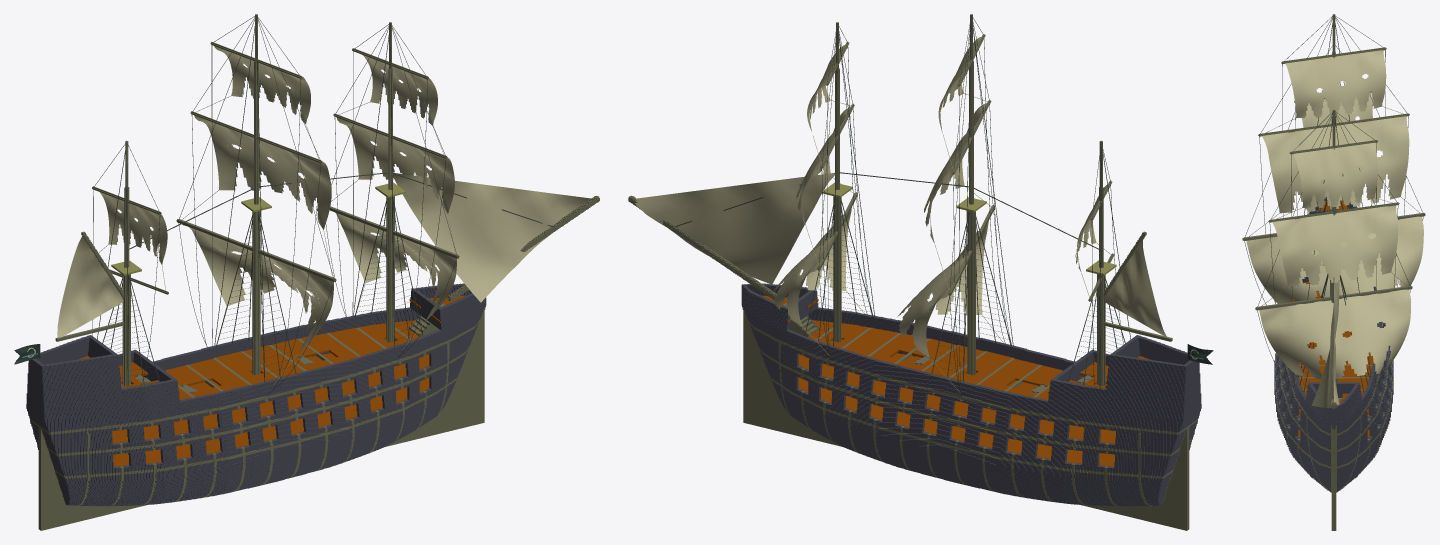
The model's file is rig_actual.obj.
3 views of the same model, side by side, from view 1: azimuth 30°, elevation 25°; view 2: azimuth 150°, elevation 25°; view 3: azimuth 270°, elevation 25° (orthographic). The views are drawn at different scales.
Parts seen in each view (by area): view 1: object 218, sail_8 # jib, sail_4 # main-topsail, sail_3 # main-course, sail_0 # fore-course, sail_1 # fore-topsail, sail_7 # mizzen-lateen, sail_5 # main-topgallant, sail_2 # fore-topgallant, sail_6 # mizzen-topsail, model_4 # main/yard-main-course; view 2: object 218, sail_8 # jib, sail_3 # main-course, sail_0 # fore-course, sail_7 # mizzen-lateen, sail_4 # main-topsail, sail_1 # fore-topsail; view 3: object 218, sail_0 # fore-course, sail_1 # fore-topsail, sail_4 # main-topsail, sail_3 # main-course, sail_5 # main-topgallant, sail_2 # fore-topgallant, sail_8 # jib, sail_6 # mizzen-topsail, model_7 # fore/yard-fore-course, model_5 # main/yard-main-topsail, model_8 # fore/yard-fore-topsail (+3 smaller).
Boxes of the visible parts, bbox=[...] form: object 218: bbox=[26, 14, 599, 530]; sail_8 # jib: bbox=[393, 173, 591, 302]; sail_4 # main-topsail: bbox=[194, 115, 331, 229]; sail_3 # main-course: bbox=[183, 225, 333, 352]; sail_0 # fore-course: bbox=[335, 212, 456, 321]; sail_1 # fore-topsail: bbox=[337, 117, 454, 213]; sail_7 # mizzen-lateen: bbox=[57, 236, 122, 337]; sail_5 # main-topgallant: bbox=[214, 46, 310, 123]; sail_2 # fore-topgallant: bbox=[362, 54, 437, 125]; sail_6 # mizzen-topsail: bbox=[100, 192, 167, 264]; model_4 # main/yard-main-course: bbox=[176, 219, 336, 281]; object 218: bbox=[628, 14, 1201, 530]; sail_8 # jib: bbox=[635, 173, 835, 283]; sail_3 # main-course: bbox=[897, 221, 988, 357]; sail_0 # fore-course: bbox=[772, 207, 851, 326]; sail_7 # mizzen-lateen: bbox=[1105, 236, 1168, 338]; sail_4 # main-topsail: bbox=[924, 103, 986, 243]; sail_1 # fore-topsail: bbox=[796, 107, 850, 225]; object 218: bbox=[1274, 14, 1393, 530]; sail_0 # fore-course: bbox=[1259, 289, 1411, 379]; sail_1 # fore-topsail: bbox=[1272, 205, 1398, 286]; sail_4 # main-topsail: bbox=[1262, 116, 1409, 213]; sail_3 # main-course: bbox=[1246, 216, 1423, 303]; sail_5 # main-topgallant: bbox=[1285, 50, 1386, 118]; sail_2 # fore-topgallant: bbox=[1293, 142, 1377, 207]; sail_8 # jib: bbox=[1311, 275, 1339, 407]; sail_6 # mizzen-topsail: bbox=[1302, 92, 1372, 127]; model_7 # fore/yard-fore-course: bbox=[1255, 285, 1412, 310]; model_5 # main/yard-main-topsail: bbox=[1258, 113, 1409, 136]; model_8 # fore/yard-fore-topsail: bbox=[1268, 202, 1399, 222].
Size of the model in its own units: 677 by 511 by 204.
